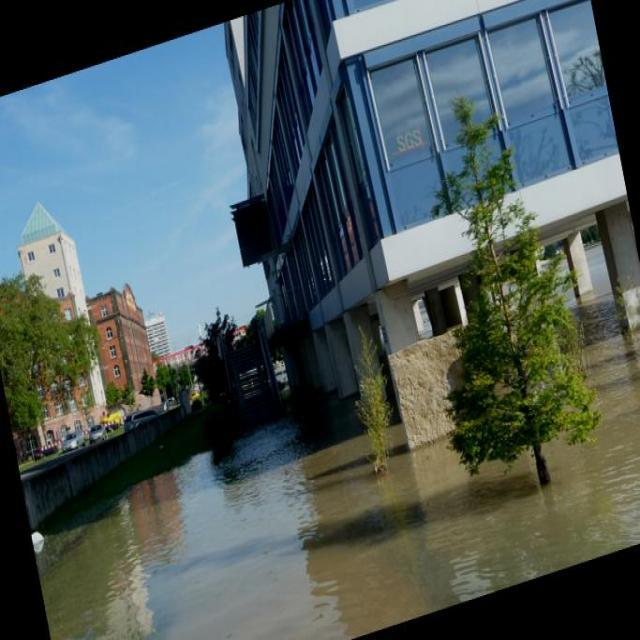flood: (27, 284, 639, 639)
